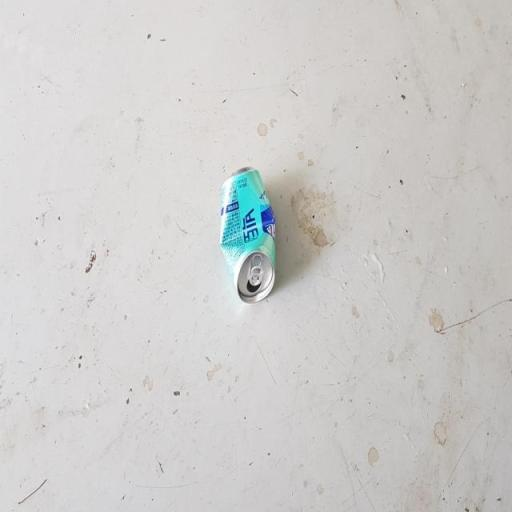metal: (207, 150, 288, 320)
